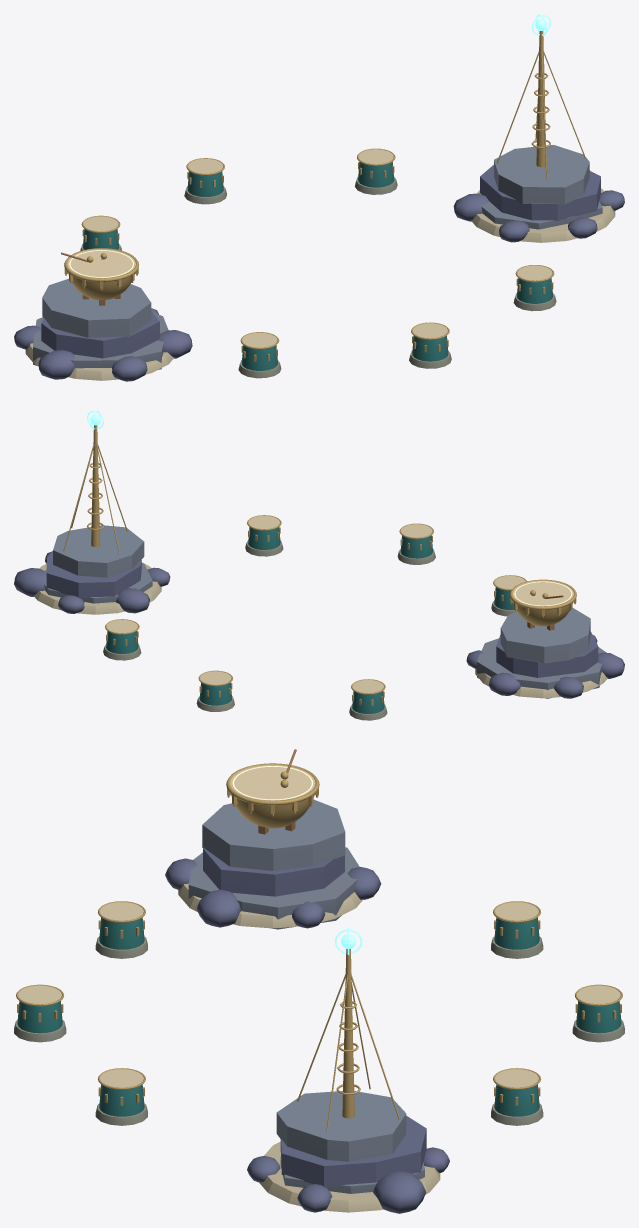
Rendered from landmark-r2-storm-drum.glb.
3 views of the same model, one above another, from view 1: azimuth 30°, elevation 25°; view 2: azimuth 150°, elevation 25°; view 3: azimuth 270°, elevation 25° (orthographic). The views are drawn at different scales.
Parts seen in each view (by area): view 1: Static_Storm_slate, Static_Midnight_stone, Static_Aged_brass, Static_Teal_painted_cedar, Static_Parchment, Static_Sea_sand, Static_Limestone_shadow, Beat_head; view 2: Static_Storm_slate, Static_Midnight_stone, Static_Aged_brass, Static_Teal_painted_cedar, Static_Parchment, Static_Sea_sand, Static_Limestone_shadow, Beat_head; view 3: Static_Storm_slate, Static_Midnight_stone, Static_Aged_brass, Static_Teal_painted_cedar, Static_Parchment, Static_Sea_sand, Static_Limestone_shadow, Beat_head.
Boxes of the visible parts, x1=… form: Static_Storm_slate: x1=33, y1=145, x2=602, y2=369; Static_Midnight_stone: x1=14, y1=165, x2=624, y2=381; Static_Aged_brass: x1=64, y1=31, x2=585, y2=361; Static_Teal_painted_cedar: x1=83, y1=162, x2=553, y2=370; Static_Parchment: x1=83, y1=149, x2=552, y2=347; Static_Sea_sand: x1=25, y1=188, x2=615, y2=380; Static_Limestone_shadow: x1=80, y1=176, x2=556, y2=378; Beat_head: x1=67, y1=249, x2=135, y2=278; Static_Storm_slate: x1=44, y1=525, x2=606, y2=698; Static_Midnight_stone: x1=14, y1=551, x2=624, y2=698; Static_Aged_brass: x1=63, y1=425, x2=576, y2=705; Static_Teal_painted_cedar: x1=106, y1=527, x2=514, y2=713; Static_Parchment: x1=106, y1=516, x2=525, y2=693; Static_Sea_sand: x1=33, y1=562, x2=607, y2=698; Static_Limestone_shadow: x1=103, y1=540, x2=516, y2=720; Beat_head: x1=512, y1=581, x2=573, y2=606; Static_Storm_slate: x1=188, y1=799, x2=424, y2=1193; Static_Midnight_stone: x1=165, y1=847, x2=449, y2=1213; Static_Aged_brass: x1=16, y1=763, x2=622, y2=1131; Static_Teal_painted_cedar: x1=17, y1=917, x2=621, y2=1116; Static_Parchment: x1=18, y1=902, x2=620, y2=1087; Static_Sea_sand: x1=178, y1=883, x2=440, y2=1212; Static_Limestone_shadow: x1=14, y1=936, x2=624, y2=1125; Beat_head: x1=230, y1=765, x2=315, y2=800.
Size of the model in its own units: 152 by 47.66 by 105.
